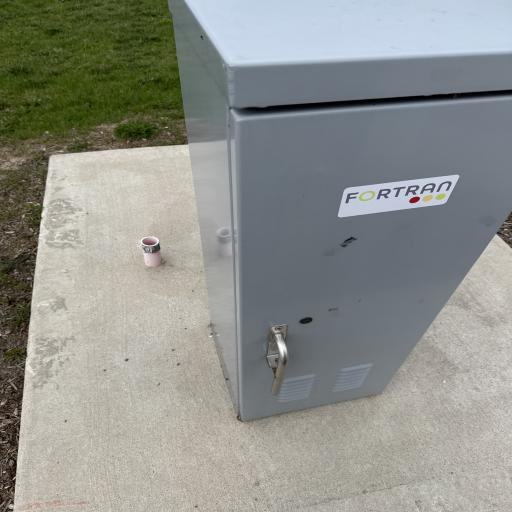Electrical Box: (167, 0, 511, 422)
